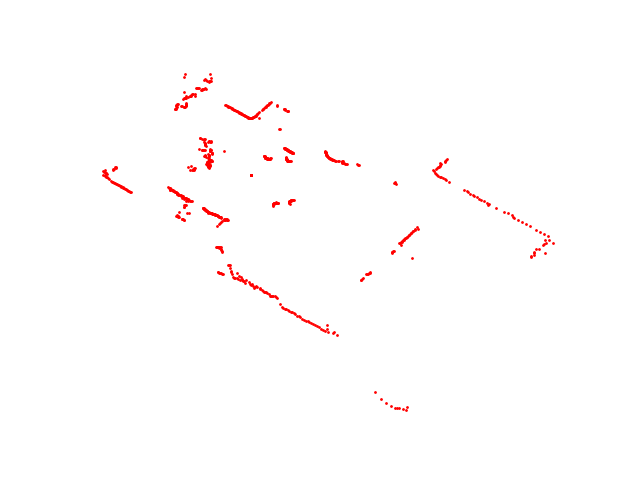person: (262, 153, 294, 165), (270, 198, 297, 209)
